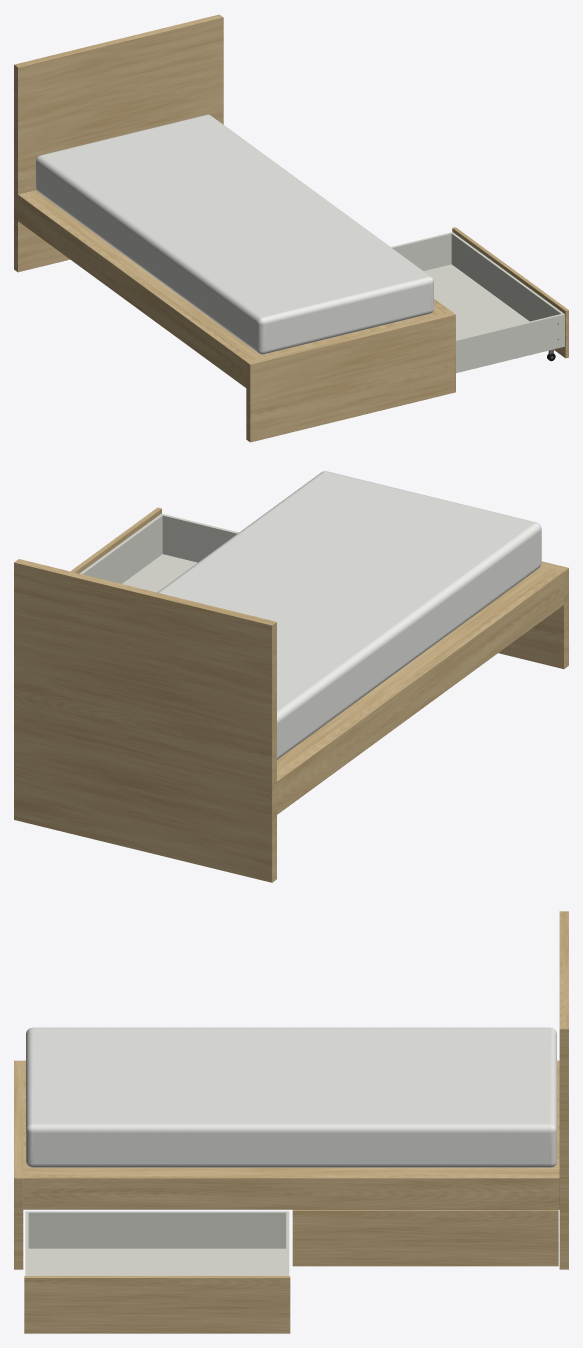
The model's file is oak_bed.glb.
3 views of the same model, one above another, from view 1: azimuth 30°, elevation 25°; view 2: azimuth 150°, elevation 25°; view 3: azimuth 270°, elevation 25° (orthographic). The views are drawn at different scales.
Visible parts, largest first — view 1: Mattress_90x200cm_Estimated18cmThick, Headboard_100cm, Footboard_38cm, Left_Side_Rail, Drawer_01_Bottom, Drawer_01_Foot_End_Wall, Mattress_Support_Deck_Assumed, Drawer_01_Front_Box_Wall, Drawer_01_Head_End_Wall, Drawer_01_Oak_Front; view 2: Headboard_100cm, Mattress_90x200cm_Estimated18cmThick, Left_Side_Rail, Mattress_Support_Deck_Assumed, Footboard_38cm, Drawer_01_Front_Box_Wall, Drawer_01_Foot_End_Wall, Drawer_01_Bottom, Drawer_01_Oak_Front; view 3: Mattress_90x200cm_Estimated18cmThick, Right_Side_Rail, Drawer_01_Oak_Front, Drawer_02_Oak_Front, Drawer_01_Back_Box_Wall, Drawer_01_Bottom, Mattress_Support_Deck_Assumed, Headboard_100cm, Footboard_38cm.
Boxes of the visible parts, <box> form: Mattress_90x200cm_Estimated18cmThick: <box>35,114,433,354</box>; Headboard_100cm: <box>14,14,223,272</box>; Footboard_38cm: <box>246,311,455,442</box>; Left_Side_Rail: <box>18,193,252,387</box>; Drawer_01_Bottom: <box>424,264,564,372</box>; Drawer_01_Foot_End_Wall: <box>456,313,564,372</box>; Mattress_Support_Deck_Assumed: <box>25,190,444,359</box>; Drawer_01_Front_Box_Wall: <box>451,233,562,321</box>; Drawer_01_Head_End_Wall: <box>391,232,453,270</box>; Drawer_01_Oak_Front: <box>452,227,568,358</box>; Headboard_100cm: <box>14,559,276,882</box>; Mattress_90x200cm_Estimated18cmThick: <box>157,471,541,759</box>; Left_Side_Rail: <box>277,569,563,814</box>; Mattress_Support_Deck_Assumed: <box>277,566,554,772</box>; Footboard_38cm: <box>498,561,568,668</box>; Drawer_01_Front_Box_Wall: <box>80,515,162,583</box>; Drawer_01_Foot_End_Wall: <box>160,513,238,562</box>; Drawer_01_Bottom: <box>122,554,197,592</box>; Drawer_01_Oak_Front: <box>70,507,161,573</box>; Mattress_90x200cm_Estimated18cmThick: <box>26,1027,556,1167</box>; Right_Side_Rail: <box>23,1174,559,1209</box>; Drawer_01_Oak_Front: <box>24,1276,290,1333</box>; Drawer_02_Oak_Front: <box>292,1209,558,1266</box>; Drawer_01_Back_Box_Wall: <box>28,1211,286,1248</box>; Drawer_01_Bottom: <box>28,1248,286,1275</box>; Mattress_Support_Deck_Assumed: <box>23,1064,559,1174</box>; Headboard_100cm: <box>559,911,568,1269</box>; Footboard_38cm: <box>14,1060,23,1269</box>.
Size of the model in its own units: 1.65 by 1 by 2.09.
5 materials, 2 textured.
